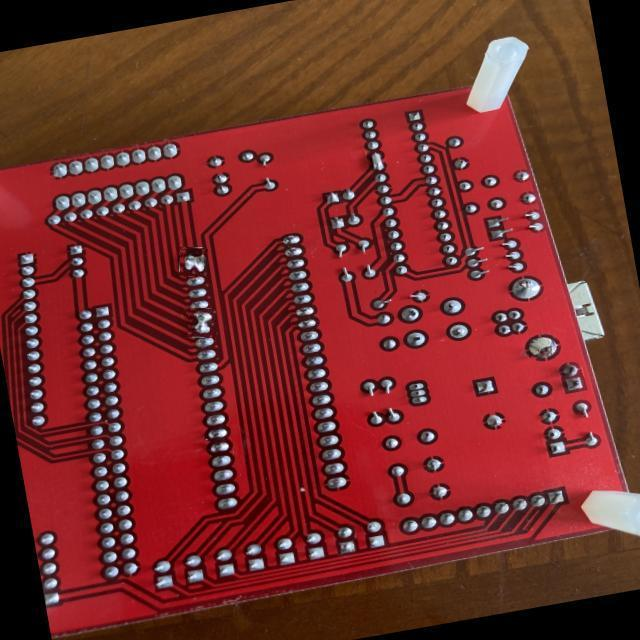damged: (179, 248, 208, 277), (188, 308, 216, 338), (366, 148, 388, 173)
